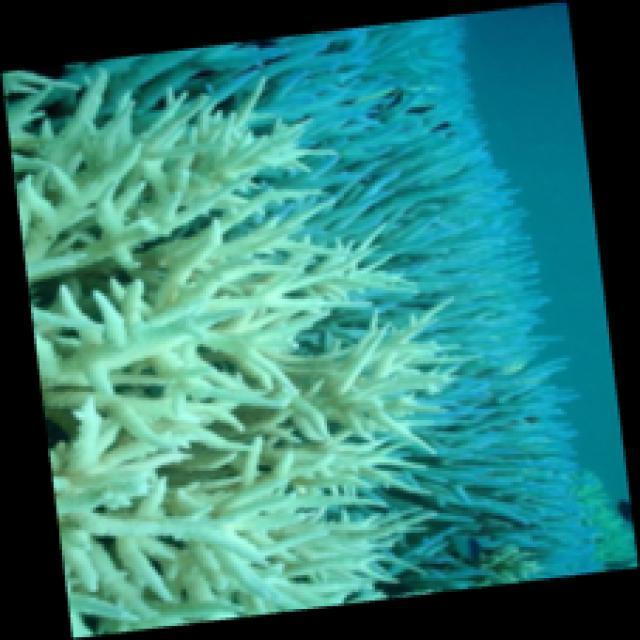Bleached: (60, 12, 607, 640), (1, 71, 460, 640)
